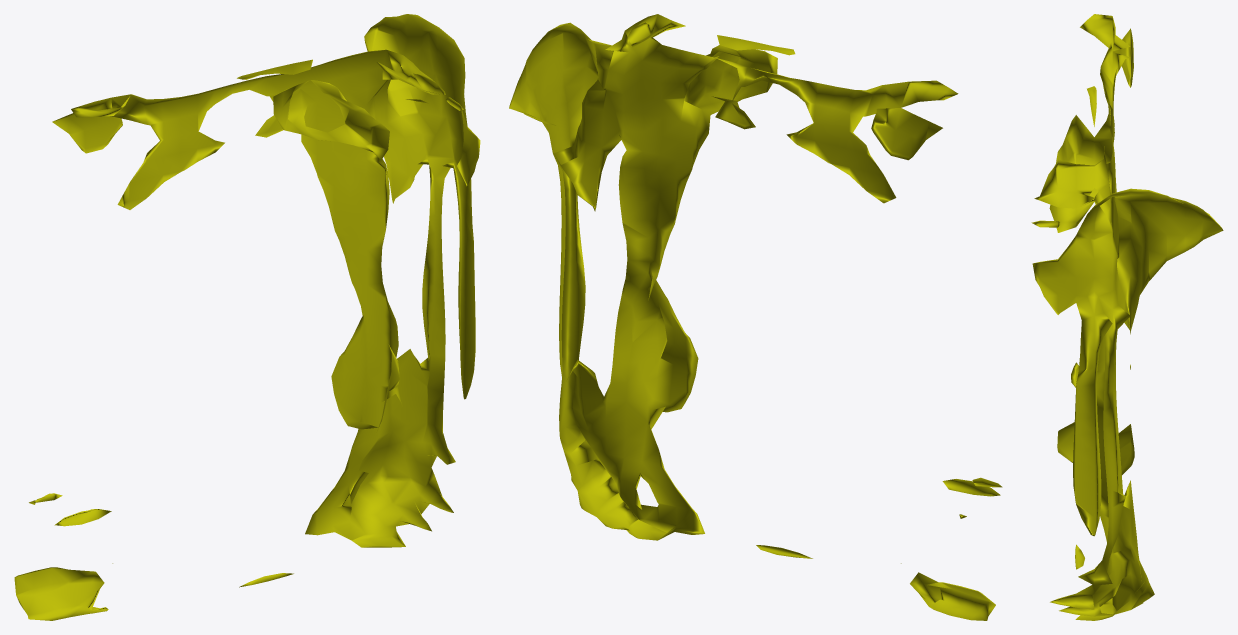
3 views of the same model, side by side, from view 1: azimuth 30°, elevation 25°; view 2: azimuth 150°, elevation 25°; view 3: azimuth 270°, elevation 25° (orthographic). The views are drawn at different scales.
Visible parts, largest first — view 1: world; view 2: world; view 3: world.
Boxes of the visible parts, x1=… form: world: x1=14, y1=14, x2=480, y2=620; world: x1=509, y1=14, x2=1002, y2=620; world: x1=1031, y1=14, x2=1223, y2=620.
Size of the model in its own units: 25.78 by 28.3 by 10.56.
